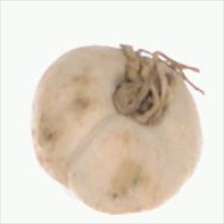L4: (30, 46, 202, 214)
